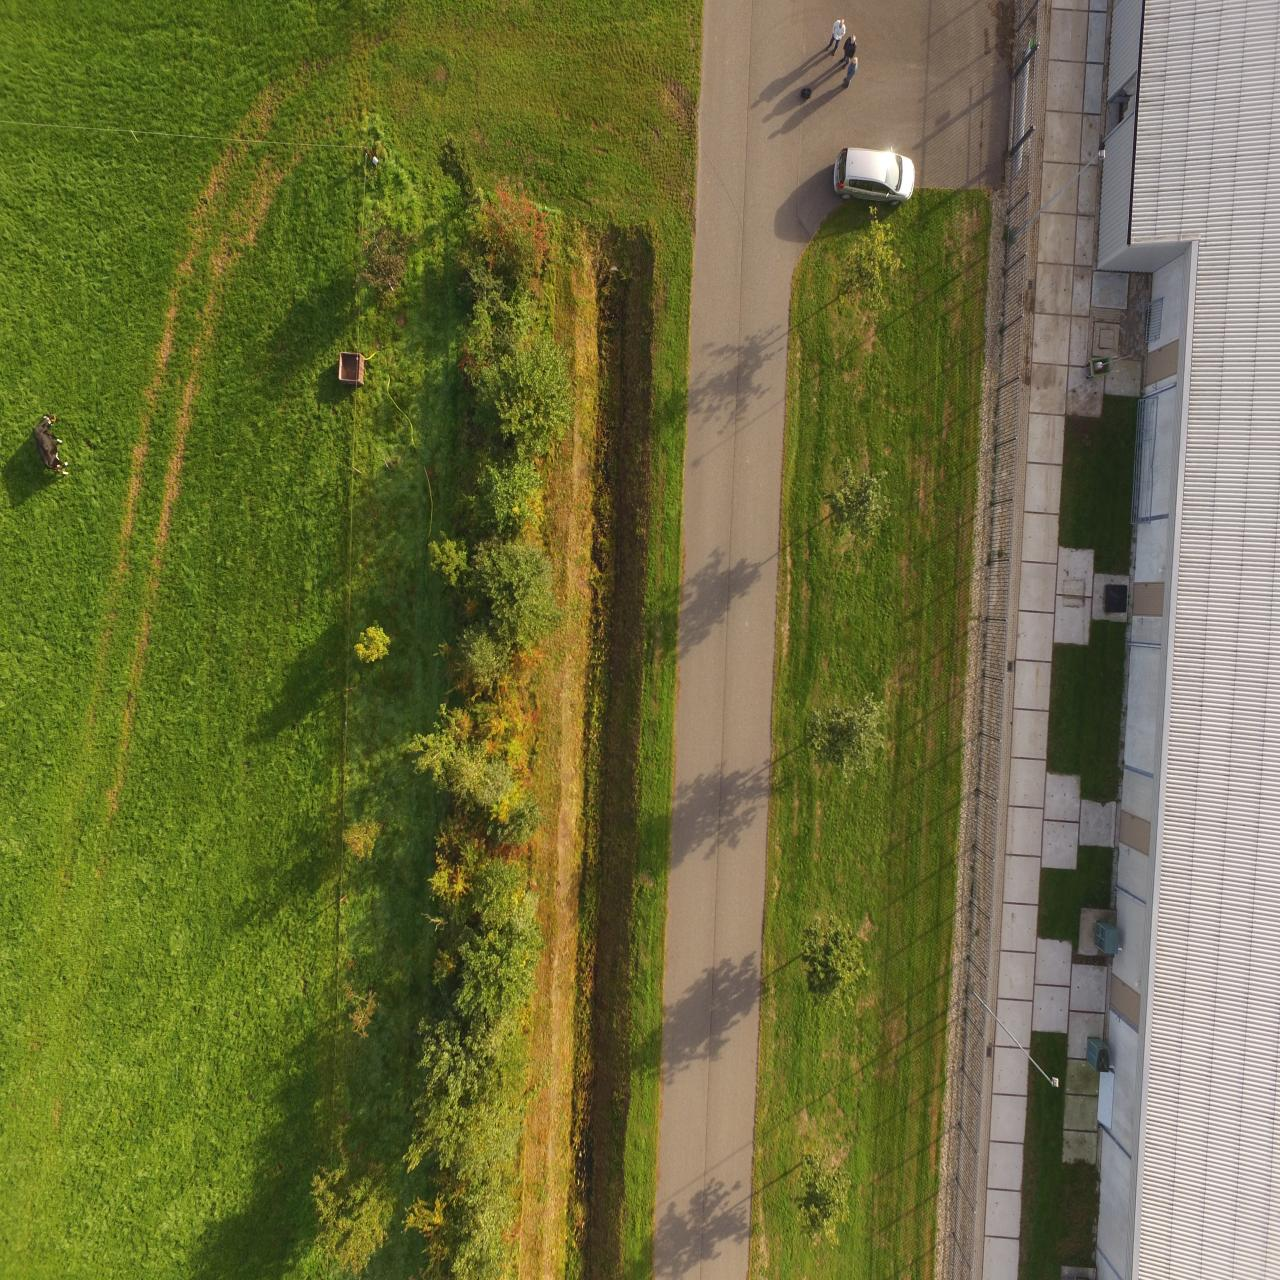cow: (30, 411, 70, 477)
